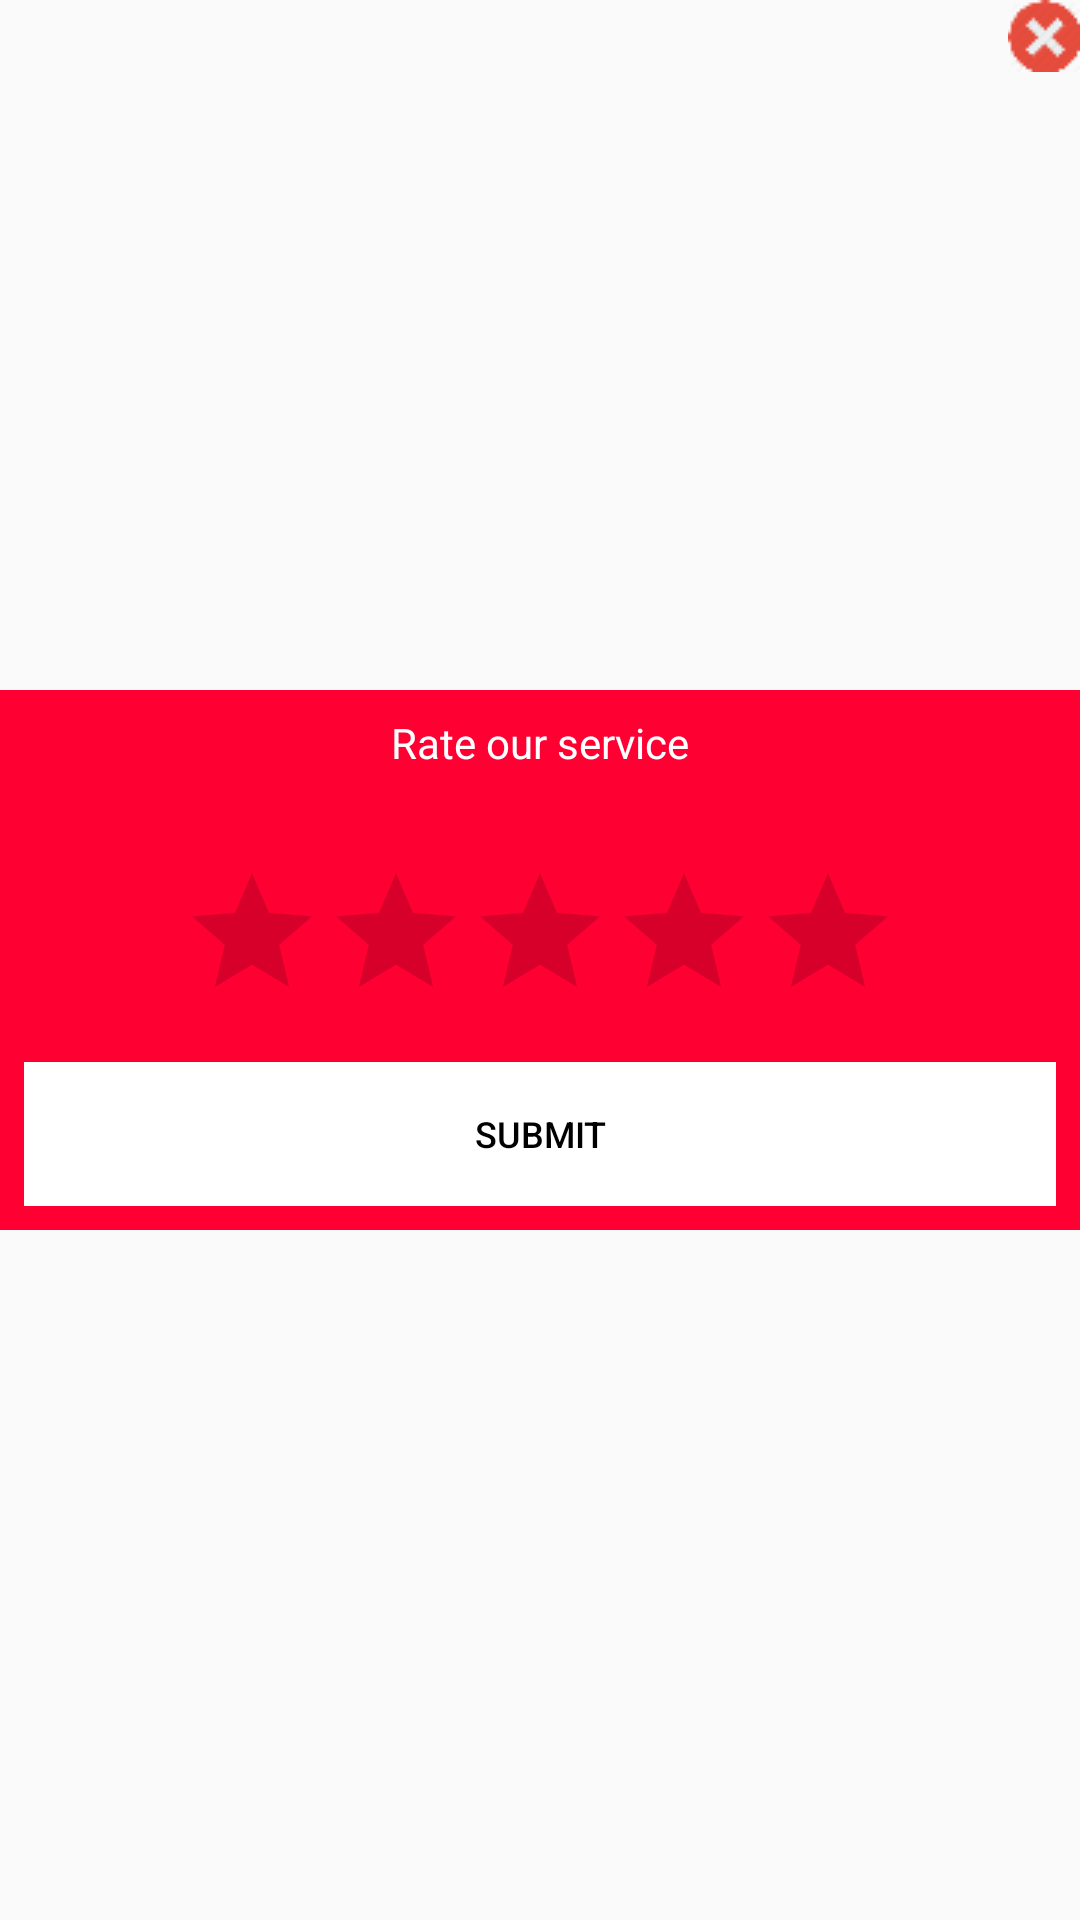

Locate icon controls on the screen. Image size 1080*1920, boxes as (x1, y1, x2, y2).
close deletes: (1008, 0, 1080, 72)
